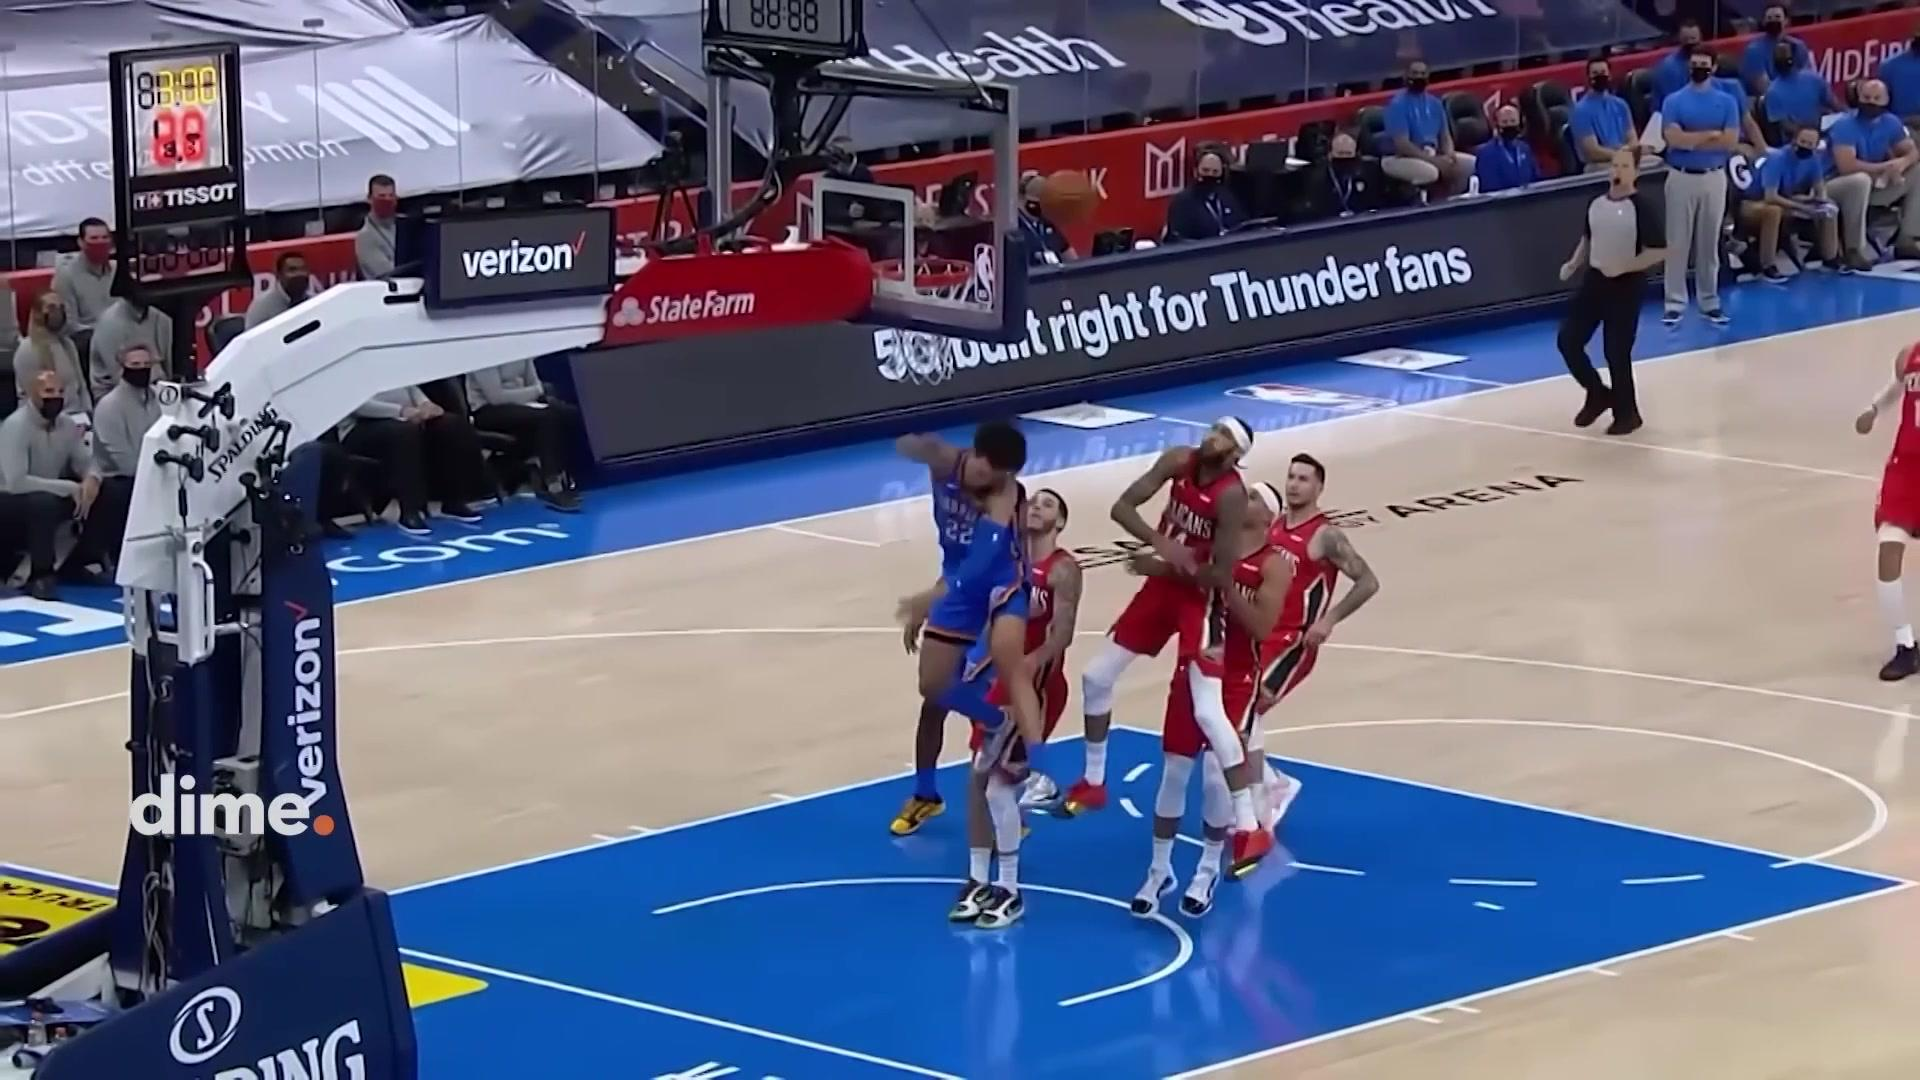no_foul: (886, 418, 1093, 880)
